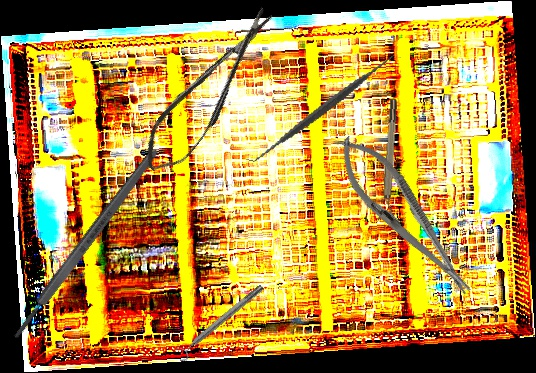Fixation Ring: (171, 280, 269, 364), (377, 98, 405, 223)
Micro Scissor: (130, 0, 291, 183)
Needle Holder: (324, 124, 486, 309)
Scalpel Handle: (8, 144, 163, 343)
Spatula Surgical: (245, 28, 402, 189)
